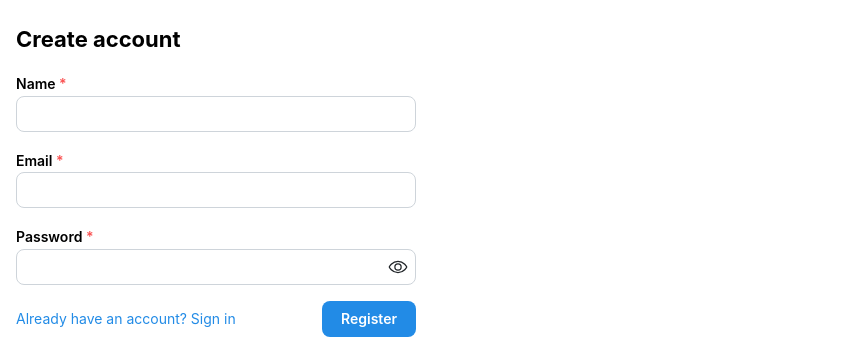
Test: registers with trimmed fields, notifies and navigates home
The image size is (852, 354).
In the field labelled "Name *": {"x": 216, "y": 114} [16,96,416,132], type "  Ada Lovelace "
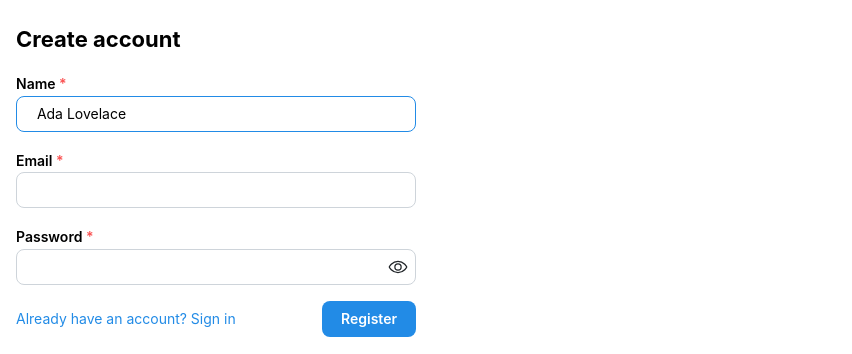
In the field labelled "Email *": {"x": 216, "y": 190} [16,172,416,208], type " ada@example.com "
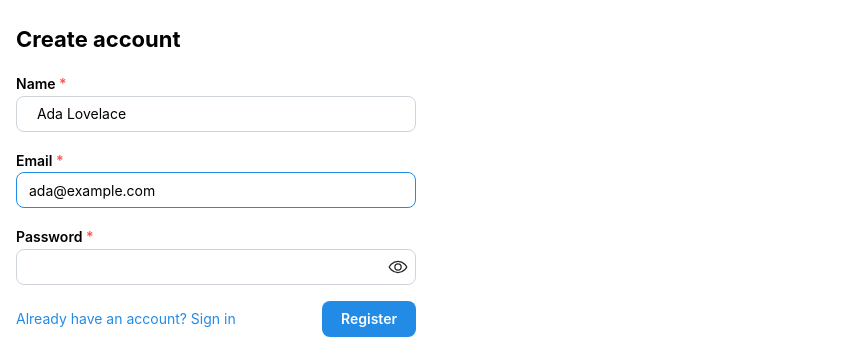
In the password field labelled "Password *": {"x": 216, "y": 267} [17,250,415,284], type "s3cret-pass"
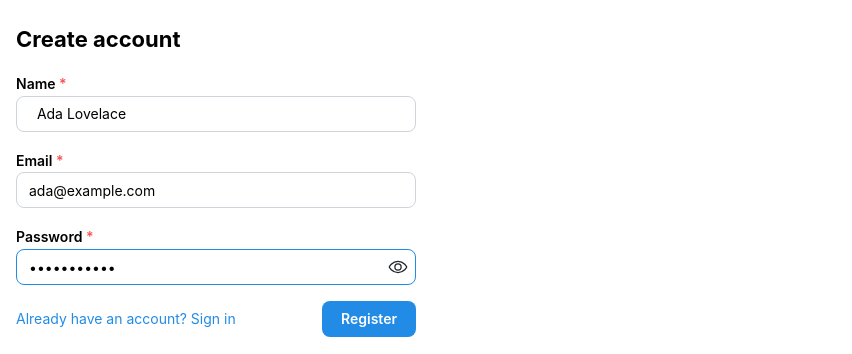
Click the button "Register": {"x": 369, "y": 319} [322,301,416,337]
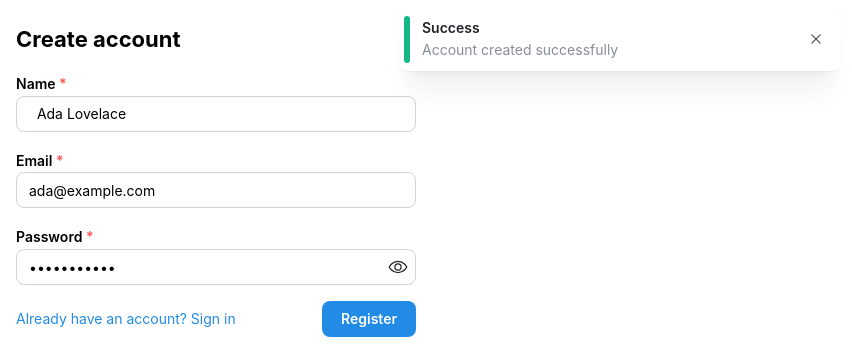
Expected: the text "Account created successfully" is shown, [422,41,618,58]
